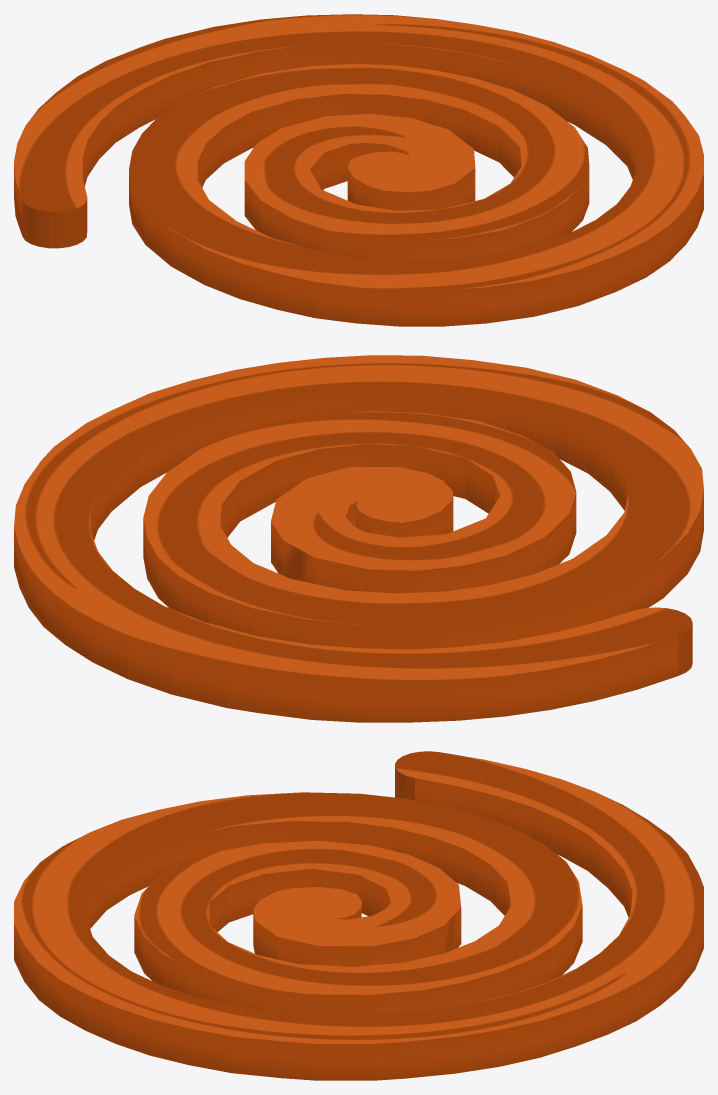
Rendered from BBQ_Sauce_Slice_BBQ_sauce_0.glb.
3 views of the same model, one above another, from view 1: azimuth 30°, elevation 25°; view 2: azimuth 150°, elevation 25°; view 3: azimuth 270°, elevation 25° (orthographic). The views are drawn at different scales.
Visible parts, largest first — view 1: BBQ_Sauce_Slice_BBQ_sauce_0; view 2: BBQ_Sauce_Slice_BBQ_sauce_0; view 3: BBQ_Sauce_Slice_BBQ_sauce_0.
Boxes of the visible parts, box(x1,y1,x2,y2) form: BBQ_Sauce_Slice_BBQ_sauce_0: box(14, 14, 703, 326); BBQ_Sauce_Slice_BBQ_sauce_0: box(14, 355, 703, 722); BBQ_Sauce_Slice_BBQ_sauce_0: box(14, 751, 703, 1080).
Bounding box in the file's own units: 0.1706 × 0.01 × 0.17.
1 material, 1 textured.
